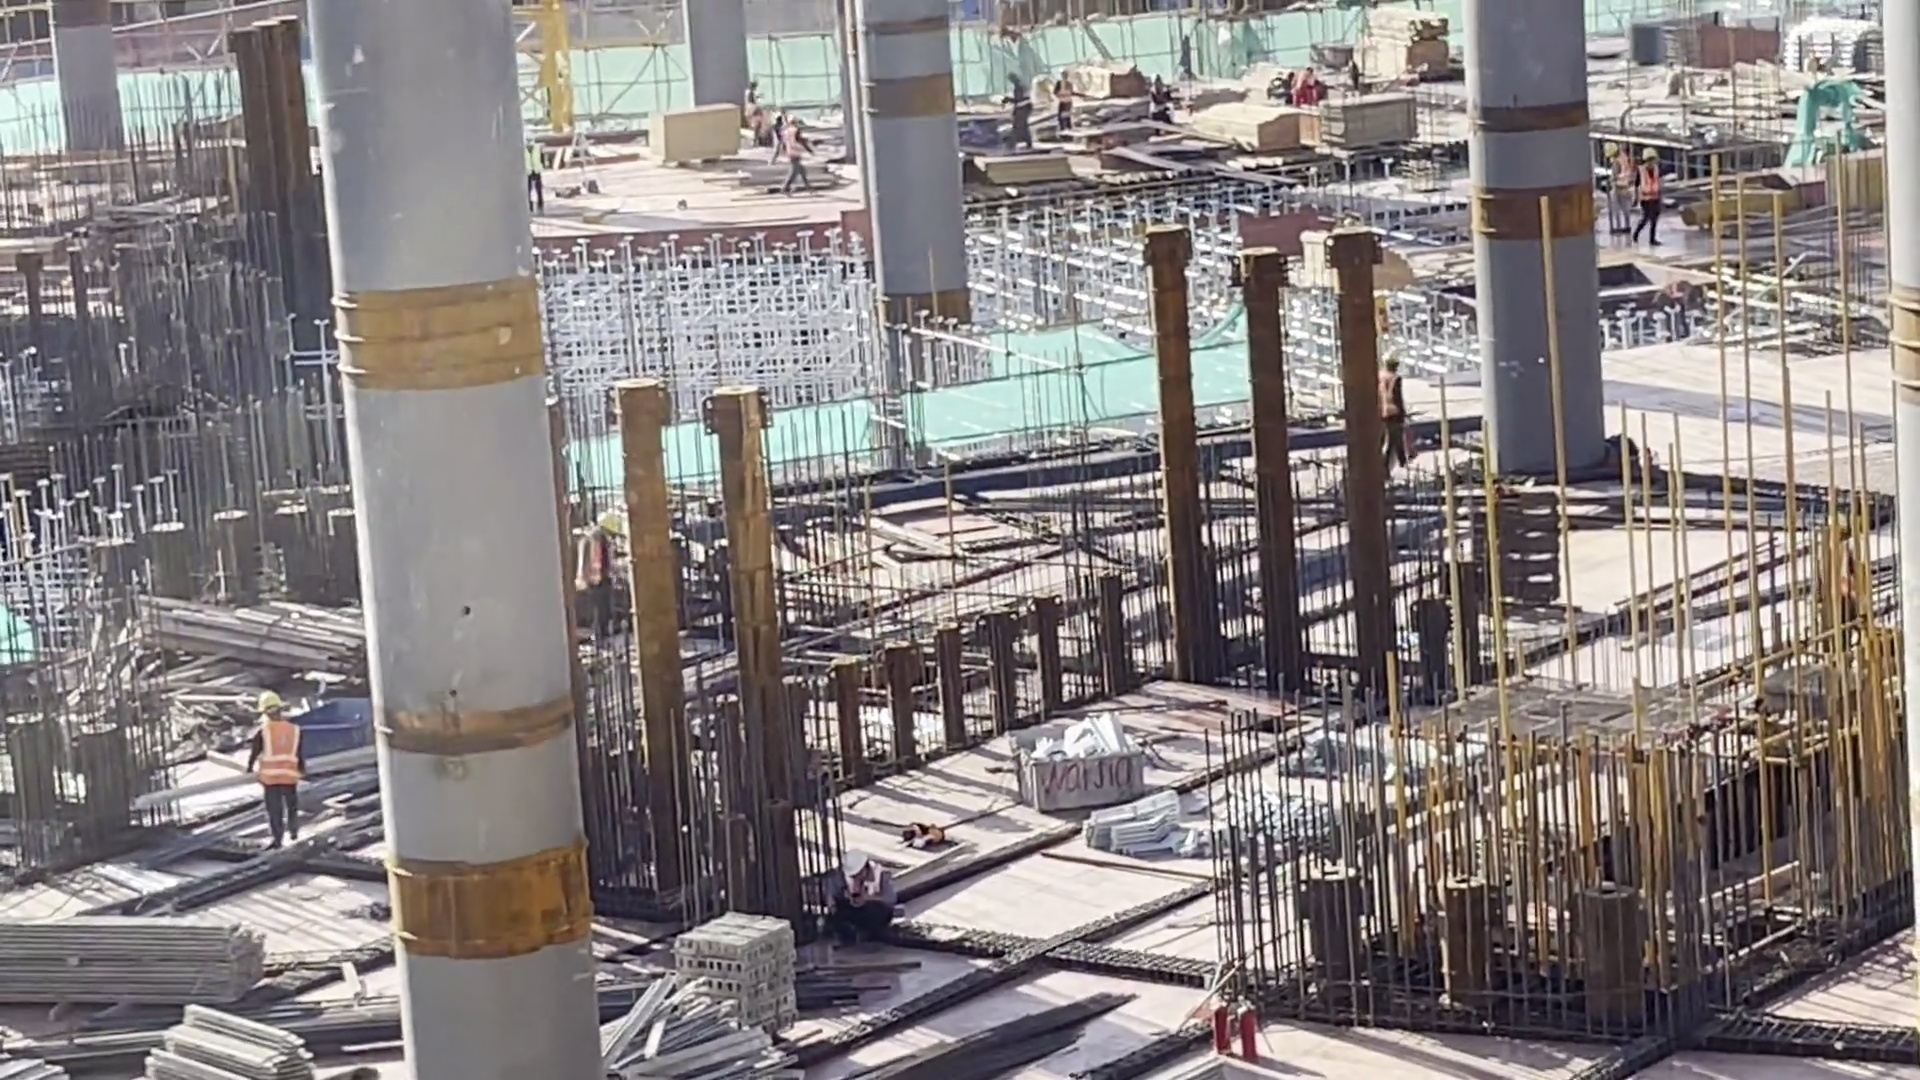helmet: (253, 688, 289, 720), (840, 847, 880, 867), (593, 506, 618, 536), (1599, 137, 1620, 156), (1638, 142, 1656, 161), (1059, 67, 1073, 80)
hopper: (1004, 709, 1169, 826), (264, 683, 392, 753)
person: (215, 664, 332, 868), (826, 840, 897, 939), (1045, 54, 1096, 148), (1372, 349, 1410, 471), (1596, 130, 1632, 241), (1631, 141, 1661, 252), (519, 131, 556, 216), (1256, 66, 1327, 105), (786, 111, 817, 198), (741, 75, 773, 154), (999, 69, 1034, 139), (1142, 70, 1171, 132)
vest: (1373, 373, 1396, 419), (1635, 164, 1660, 205), (1609, 157, 1634, 193)
wood: (1, 883, 282, 1042), (1186, 89, 1325, 168)
